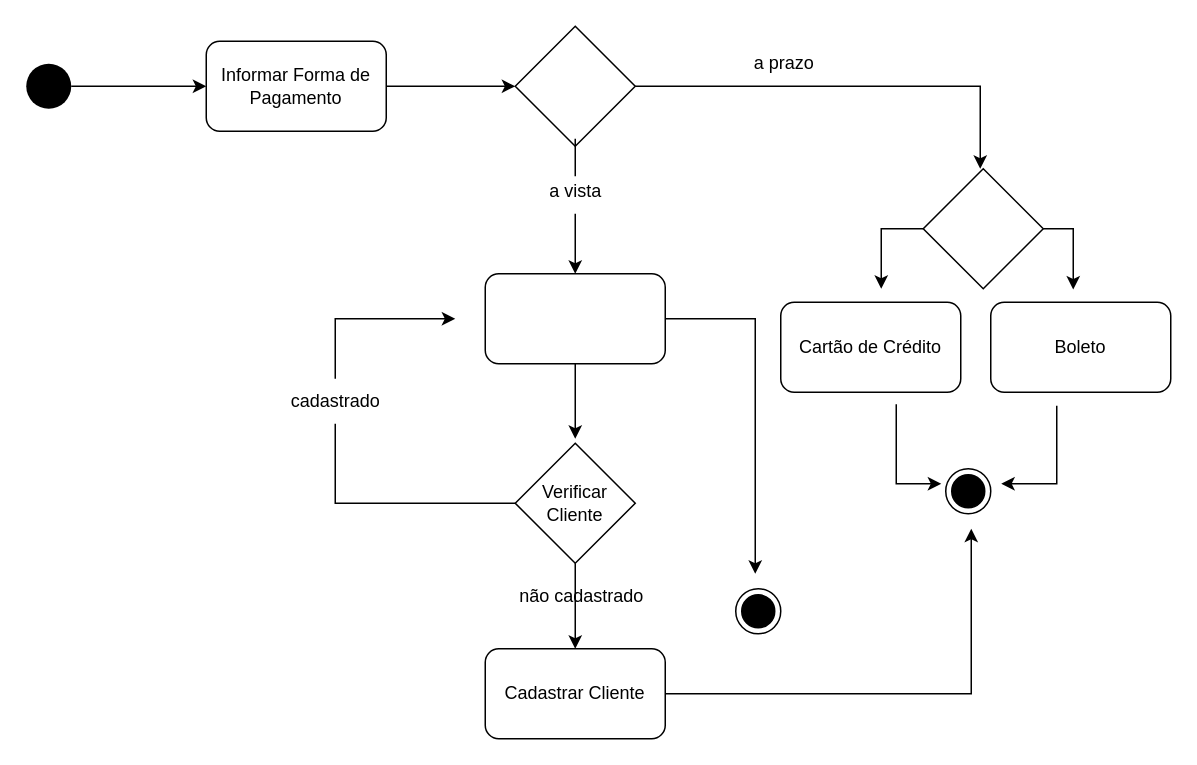
Image size: 1197x765. Some labels were removed from this diagram. Here are the shapes that lost their labels. From the top down, the centre of each, then its label:
the point at 574,85: Verificar
the point at 982,228: Selecionar
the point at 574,318: Efetuar Desconto
